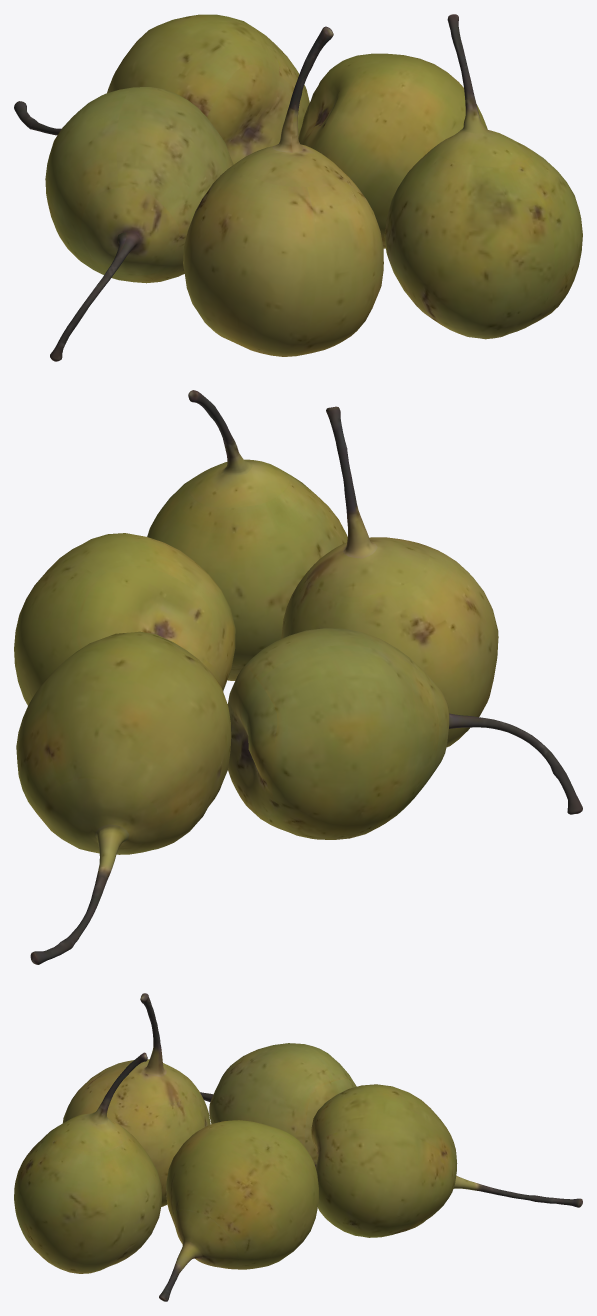
Rendered from food_pears_asian_01.glb.
The picture shows the model from 3 angles, top to bottom: view 1: azimuth 30°, elevation 25°; view 2: azimuth 150°, elevation 25°; view 3: azimuth 270°, elevation 25°; orthographic projection. The views are drawn at different scales.
Visible parts, largest first — view 1: food_pears_asian_01_b; view 2: food_pears_asian_01_b; view 3: food_pears_asian_01_b.
Boxes of the visible parts, left/top/right/bottom form: food_pears_asian_01_b: left=14, top=14, right=582, bottom=361; food_pears_asian_01_b: left=14, top=390, right=582, bottom=964; food_pears_asian_01_b: left=14, top=993, right=582, bottom=1301.
Size of the model in its own units: 0.1262 by 0.0712 by 0.1669.
1 material, 1 textured.
